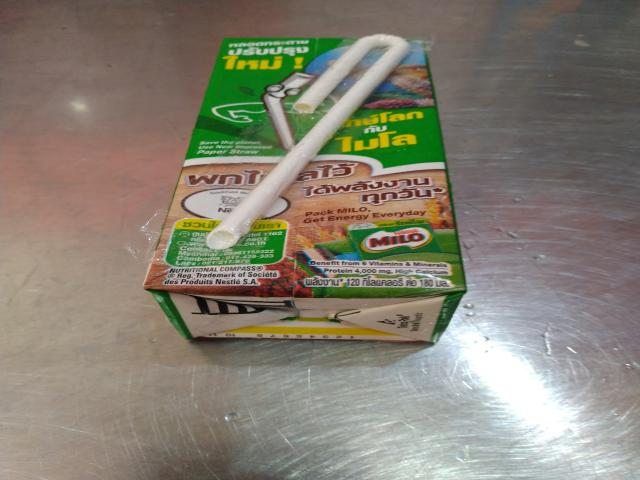drink_box: (137, 22, 508, 377)
